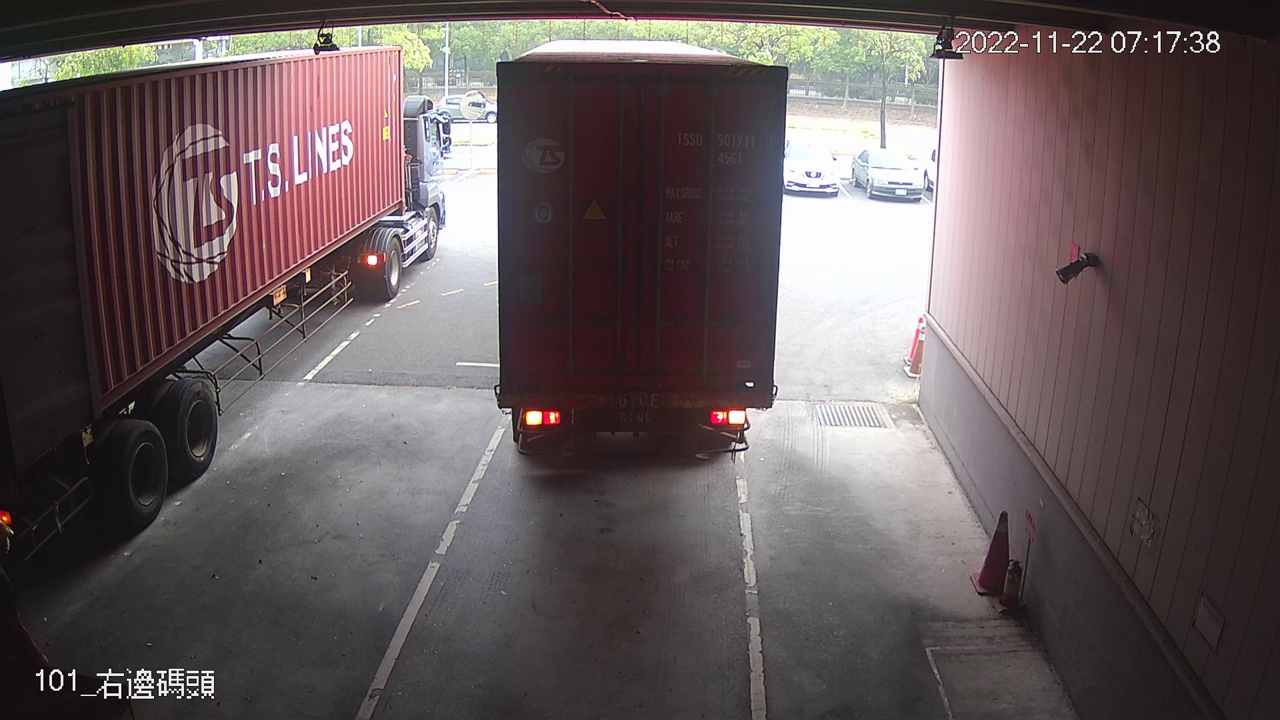container: (671, 126, 779, 171)
